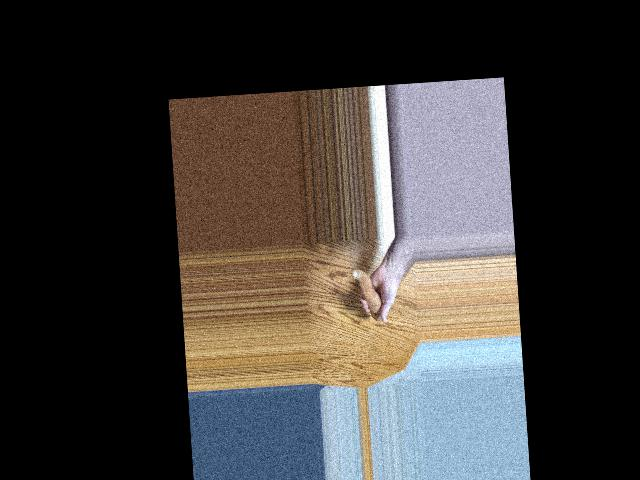sweet_potato: (353, 265, 385, 321)
